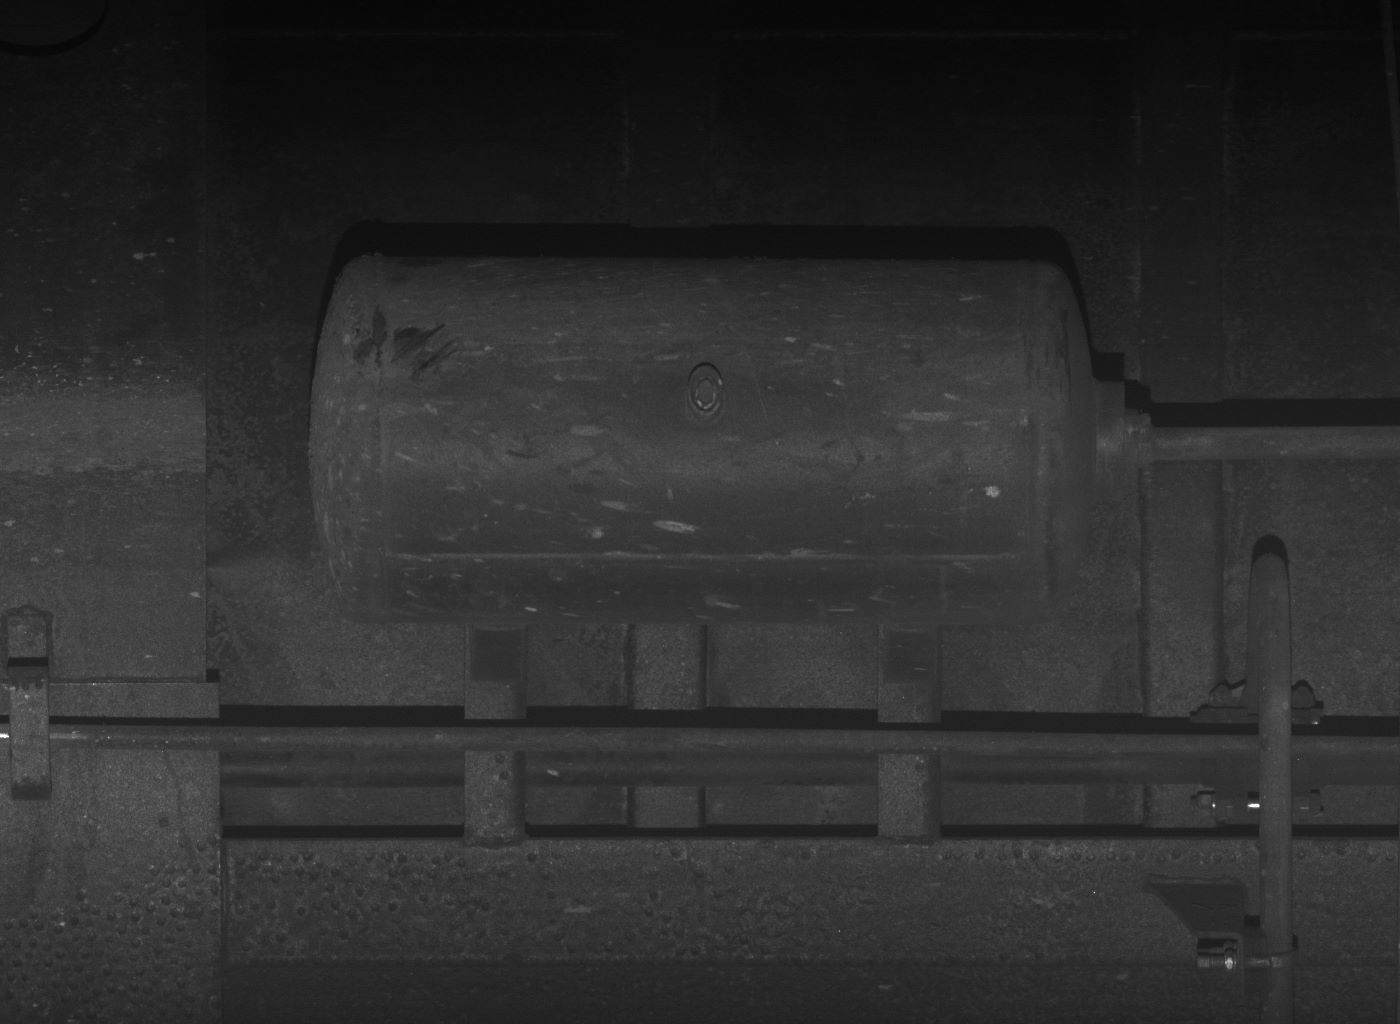normal: (2, 607, 54, 799)
